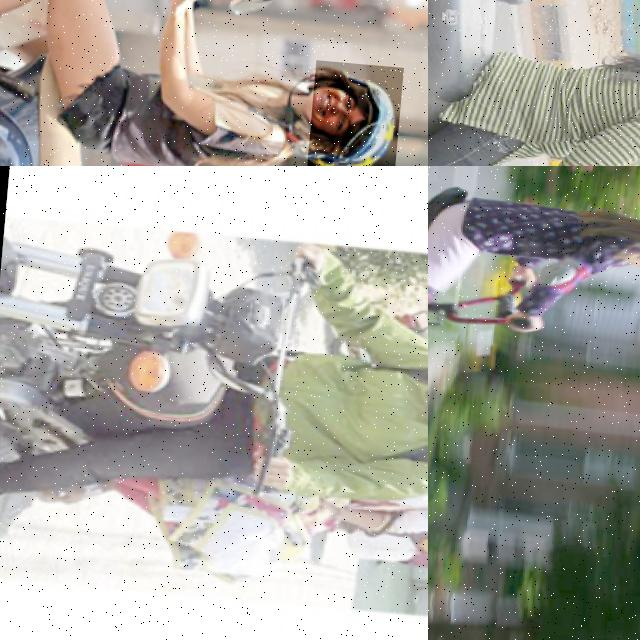helmet: (304, 60, 402, 166)
